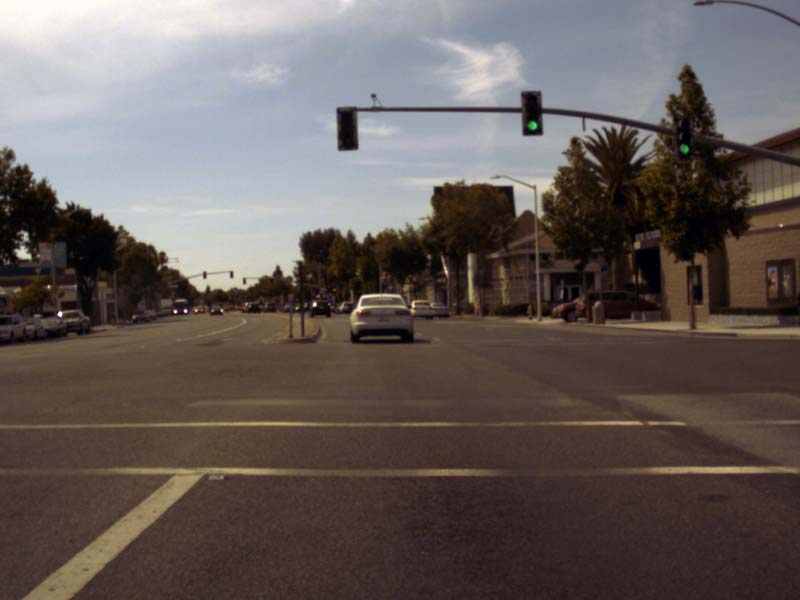Green: (522, 90, 541, 136), (677, 118, 690, 159)
Yellow: (332, 285, 336, 295)
